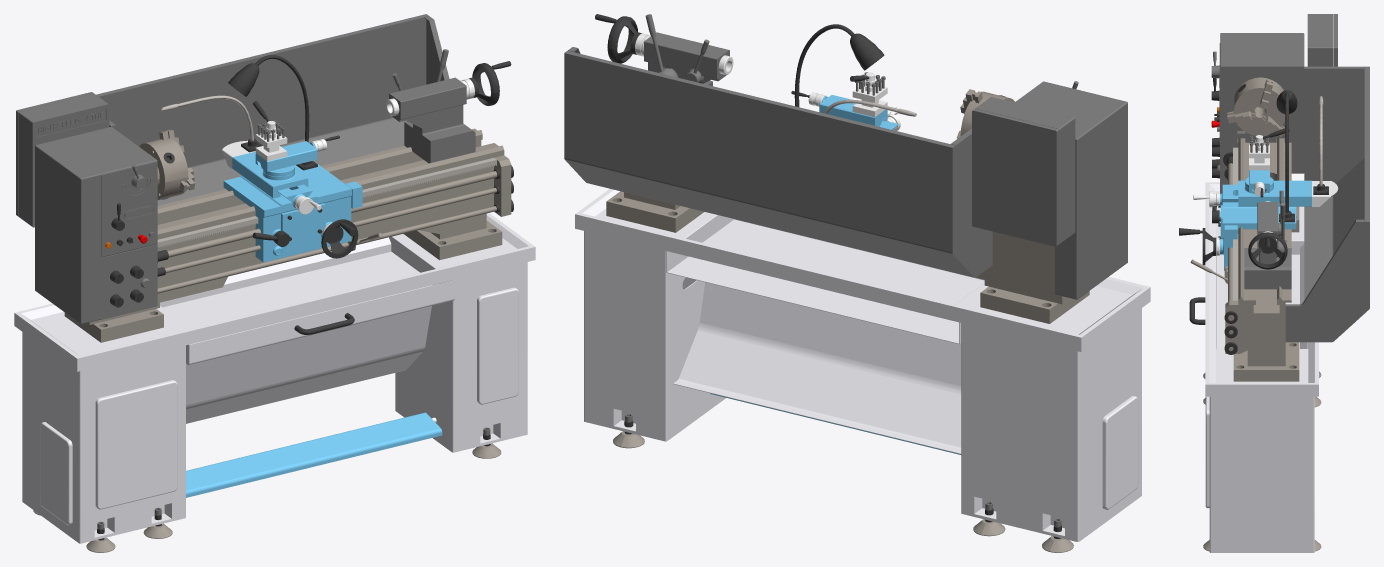
3 renders of one model, left to right at view 1: azimuth 30°, elevation 25°; view 2: azimuth 150°, elevation 25°; view 3: azimuth 270°, elevation 25°, orthographic. The views are drawn at different scales.
Visible parts, largest first — view 1: empty_11, empty_67, empty_78, empty_107, empty_13, empty_6, empty_26, empty_110, empty_9, empty_47, empty_40, empty_15 (+18 smaller); view 2: empty_11, empty_67, empty_107, empty_13, empty_59, empty_26, empty_78, empty_9, empty_27, empty_40, empty_56, empty_73 (+4 smaller); view 3: empty_11, empty_67, empty_78, empty_73, empty_56, empty_92, empty_26, empty_47, empty_40, empty_4, empty_13, empty_109 (+15 smaller).
Part boxes in pixels (<box>): empty_11: <box>14,213,535,543</box>; empty_67: <box>96,14,449,205</box>; empty_78: <box>64,128,511,342</box>; empty_107: <box>186,306,431,423</box>; empty_13: <box>35,140,100,324</box>; empty_6: <box>95,380,177,509</box>; empty_26: <box>160,237,419,328</box>; empty_110: <box>186,412,442,497</box>; empty_9: <box>186,280,454,364</box>; empty_47: <box>223,160,351,262</box>; empty_40: <box>18,93,109,227</box>; empty_15: <box>477,287,518,404</box>; empty_11: <box>575,189,1150,541</box>; empty_67: <box>564,47,992,277</box>; empty_107: <box>673,282,961,454</box>; empty_13: <box>1055,96,1127,299</box>; empty_59: <box>972,109,1059,246</box>; empty_26: <box>702,219,984,304</box>; empty_78: <box>606,191,1089,323</box>; empty_9: <box>666,251,961,344</box>; empty_27: <box>1102,396,1138,509</box>; empty_40: <box>975,97,1075,244</box>; empty_56: <box>644,14,729,85</box>; empty_73: <box>1015,81,1105,118</box>; empty_11: <box>1205,182,1318,552</box>; empty_67: <box>1285,66,1369,342</box>; empty_78: <box>1225,138,1299,381</box>; empty_73: <box>1220,41,1304,142</box>; empty_56: <box>1244,190,1291,277</box>; empty_92: <box>1233,77,1285,135</box>; empty_26: <box>1216,244,1307,348</box>; empty_47: <box>1220,184,1296,270</box>; empty_40: <box>1307,14,1333,66</box>; empty_4: <box>1238,180,1311,206</box>; empty_13: <box>1220,33,1304,173</box>; empty_109: <box>1276,90,1297,222</box>.
Bounding box in the file's own units: 1862 × 1569 × 727.
